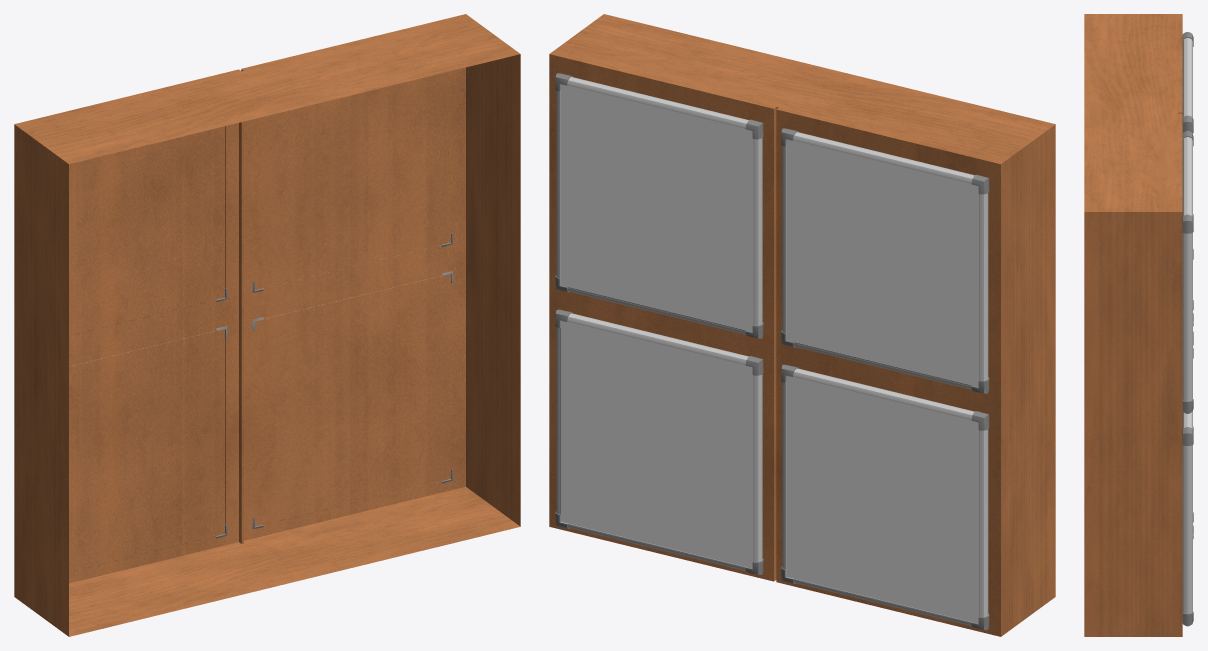
File: TwoDoorCabinet.fbx
3 views of the same model, side by side, from view 1: azimuth 30°, elevation 25°; view 2: azimuth 150°, elevation 25°; view 3: azimuth 270°, elevation 25° (orthographic). The views are drawn at different scales.
Visible parts, largest first — view 1: Cube.030; view 2: Cube.030; view 3: Cube.030.
Part boxes in pixels (bbox=[...]): Cube.030: bbox=[14, 14, 520, 636]; Cube.030: bbox=[549, 14, 1055, 636]; Cube.030: bbox=[1084, 14, 1193, 636].
Size of the model in its own units: 1 by 0.2338 by 1.
